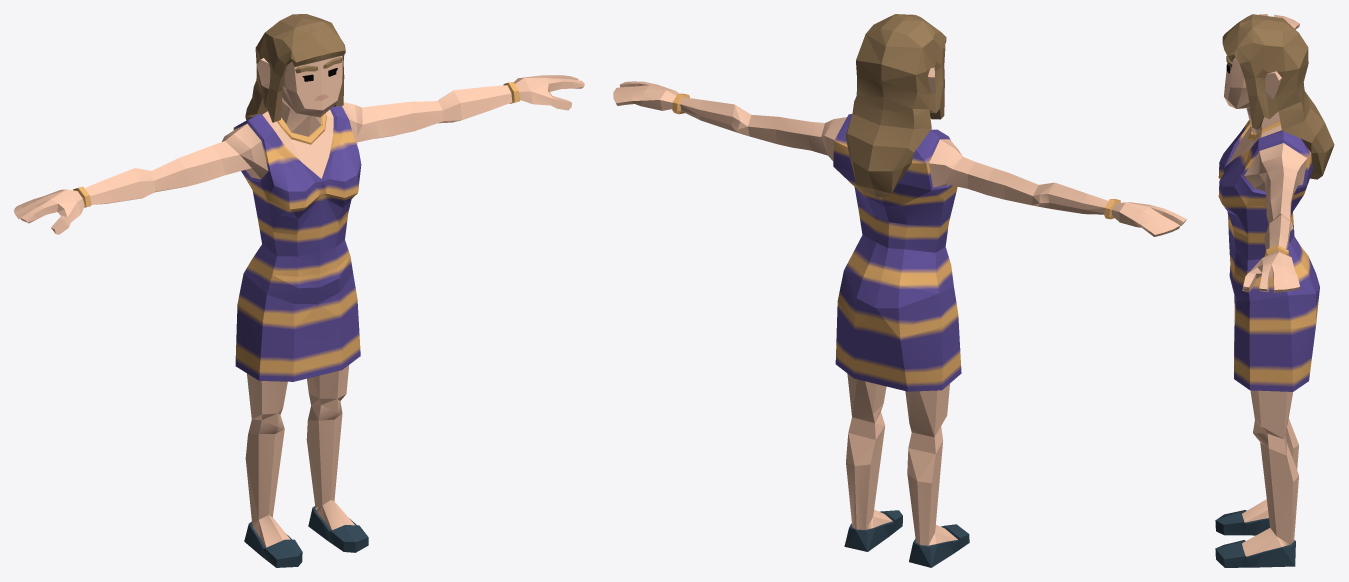
Rendered from Character3_model.fbx.
3 views of the same model, side by side, from view 1: azimuth 30°, elevation 25°; view 2: azimuth 150°, elevation 25°; view 3: azimuth 270°, elevation 25° (orthographic).
Visible parts, largest first — view 1: Character_Mother_02; view 2: Character_Mother_02; view 3: Character_Mother_02.
Part boxes in pixels (x1,y1,x2,y2): Character_Mother_02: (14, 14, 584, 567); Character_Mother_02: (613, 14, 1186, 567); Character_Mother_02: (1215, 14, 1334, 567).
Size of the model in its own units: 204 by 182 by 37.32.
1 material, 1 textured.
